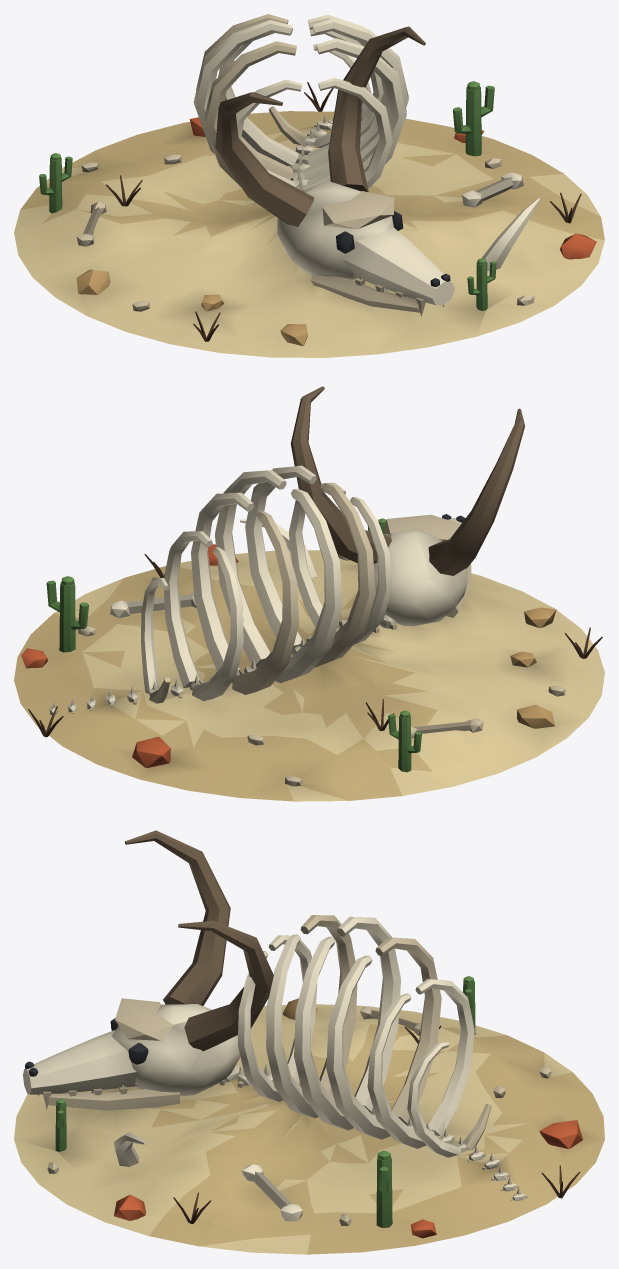
File: nw_titan_bones.glb
3 views of the same model, one above another, from view 1: azimuth 30°, elevation 25°; view 2: azimuth 150°, elevation 25°; view 3: azimuth 270°, elevation 25° (orthographic).
Visible parts, largest first — view 1: nw_titan_bones; view 2: nw_titan_bones; view 3: nw_titan_bones.
Boxes of the visible parts, x1,y1,x2,y2 form: nw_titan_bones: (14,14,604,357); nw_titan_bones: (14,386,604,801); nw_titan_bones: (14,830,604,1254).
Size of the model in its own units: 1.54 by 0.6725 by 1.54.
